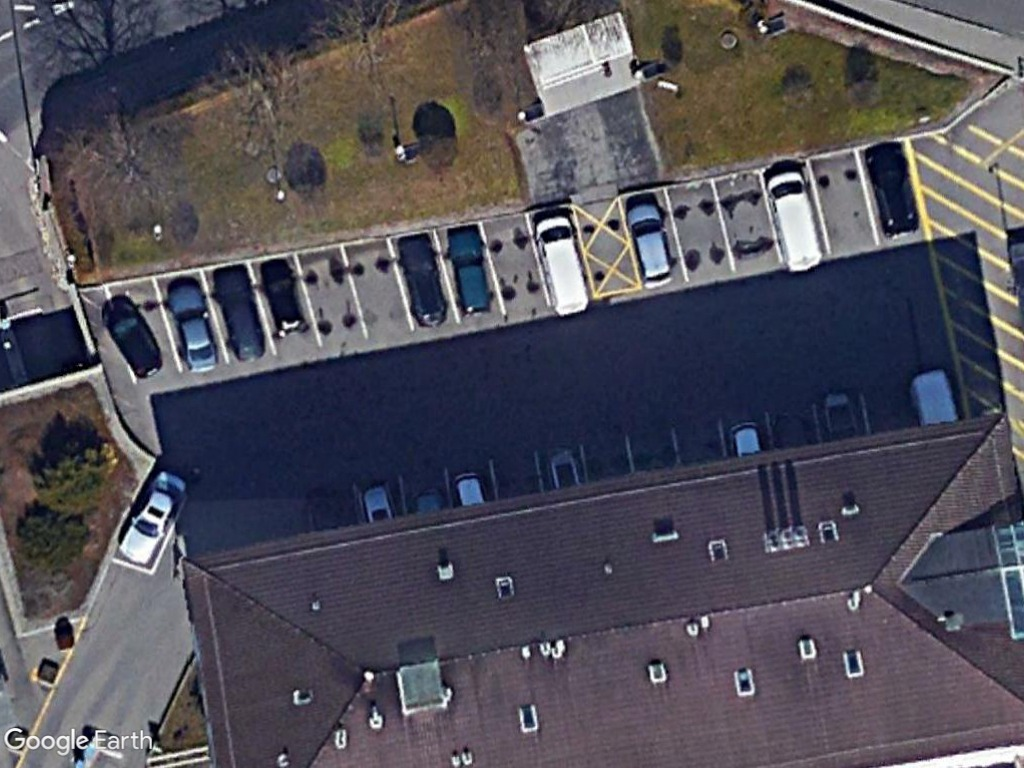car: (115, 471, 190, 564), (168, 279, 222, 373), (446, 226, 496, 316), (627, 201, 676, 292)
van: (765, 168, 824, 275), (536, 214, 591, 316)
